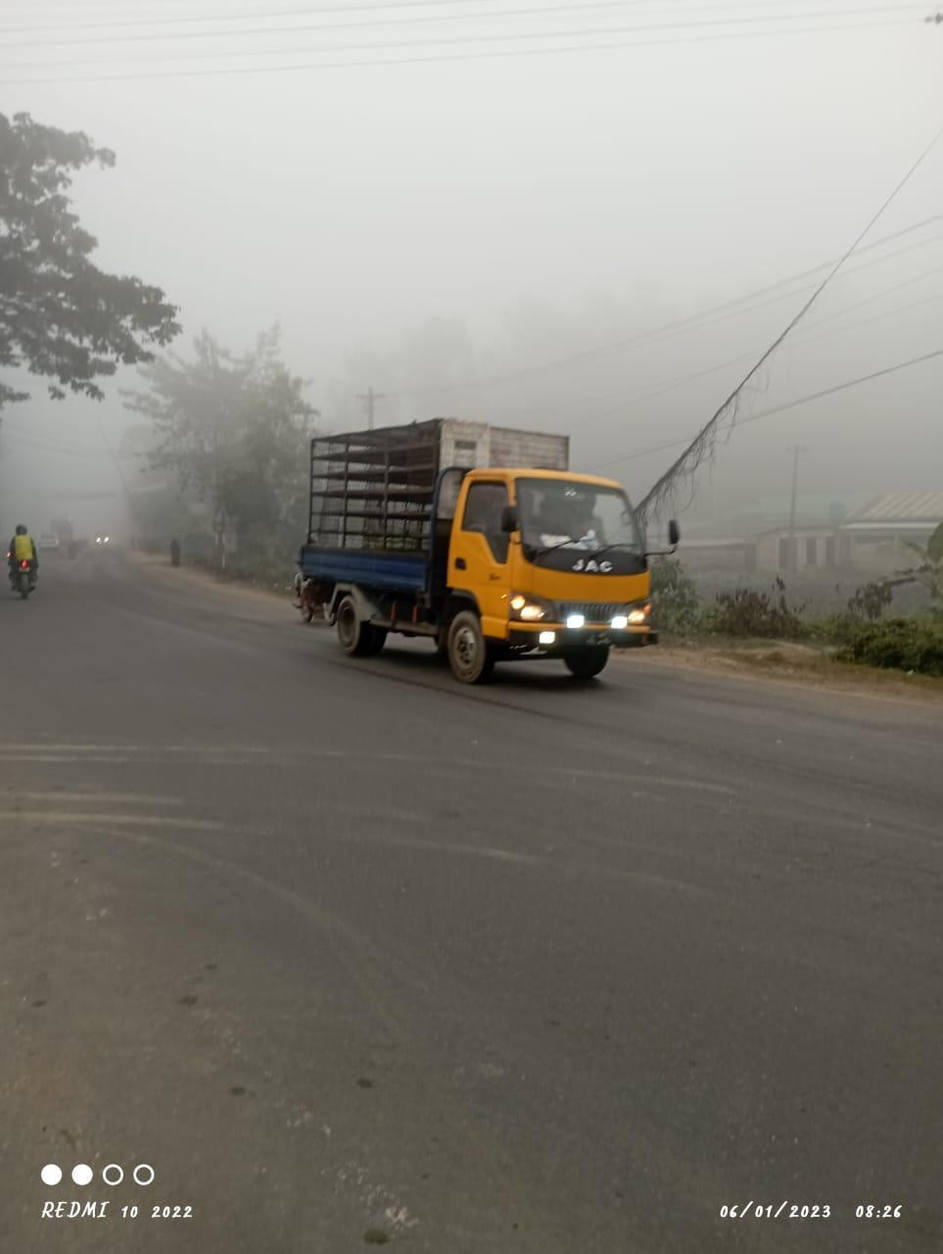Bike: (1, 518, 65, 599)
Truck: (292, 411, 685, 687)
